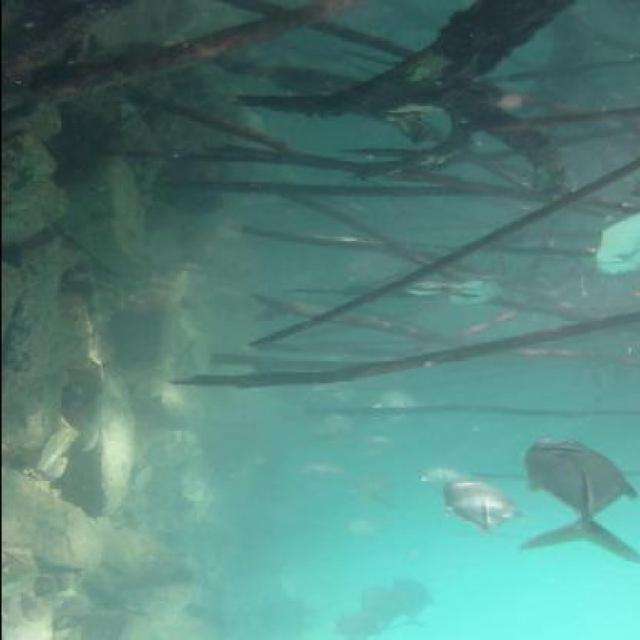Caranx_sexfasciatus_juvenile: (512, 435, 637, 560), (421, 472, 530, 534), (577, 202, 640, 282), (378, 575, 440, 631), (438, 272, 518, 314), (392, 271, 477, 304), (294, 408, 374, 442), (336, 469, 398, 508), (322, 513, 410, 538), (333, 434, 412, 461), (360, 389, 434, 417), (358, 585, 411, 624), (288, 370, 348, 404), (316, 612, 387, 640), (293, 448, 345, 474)
